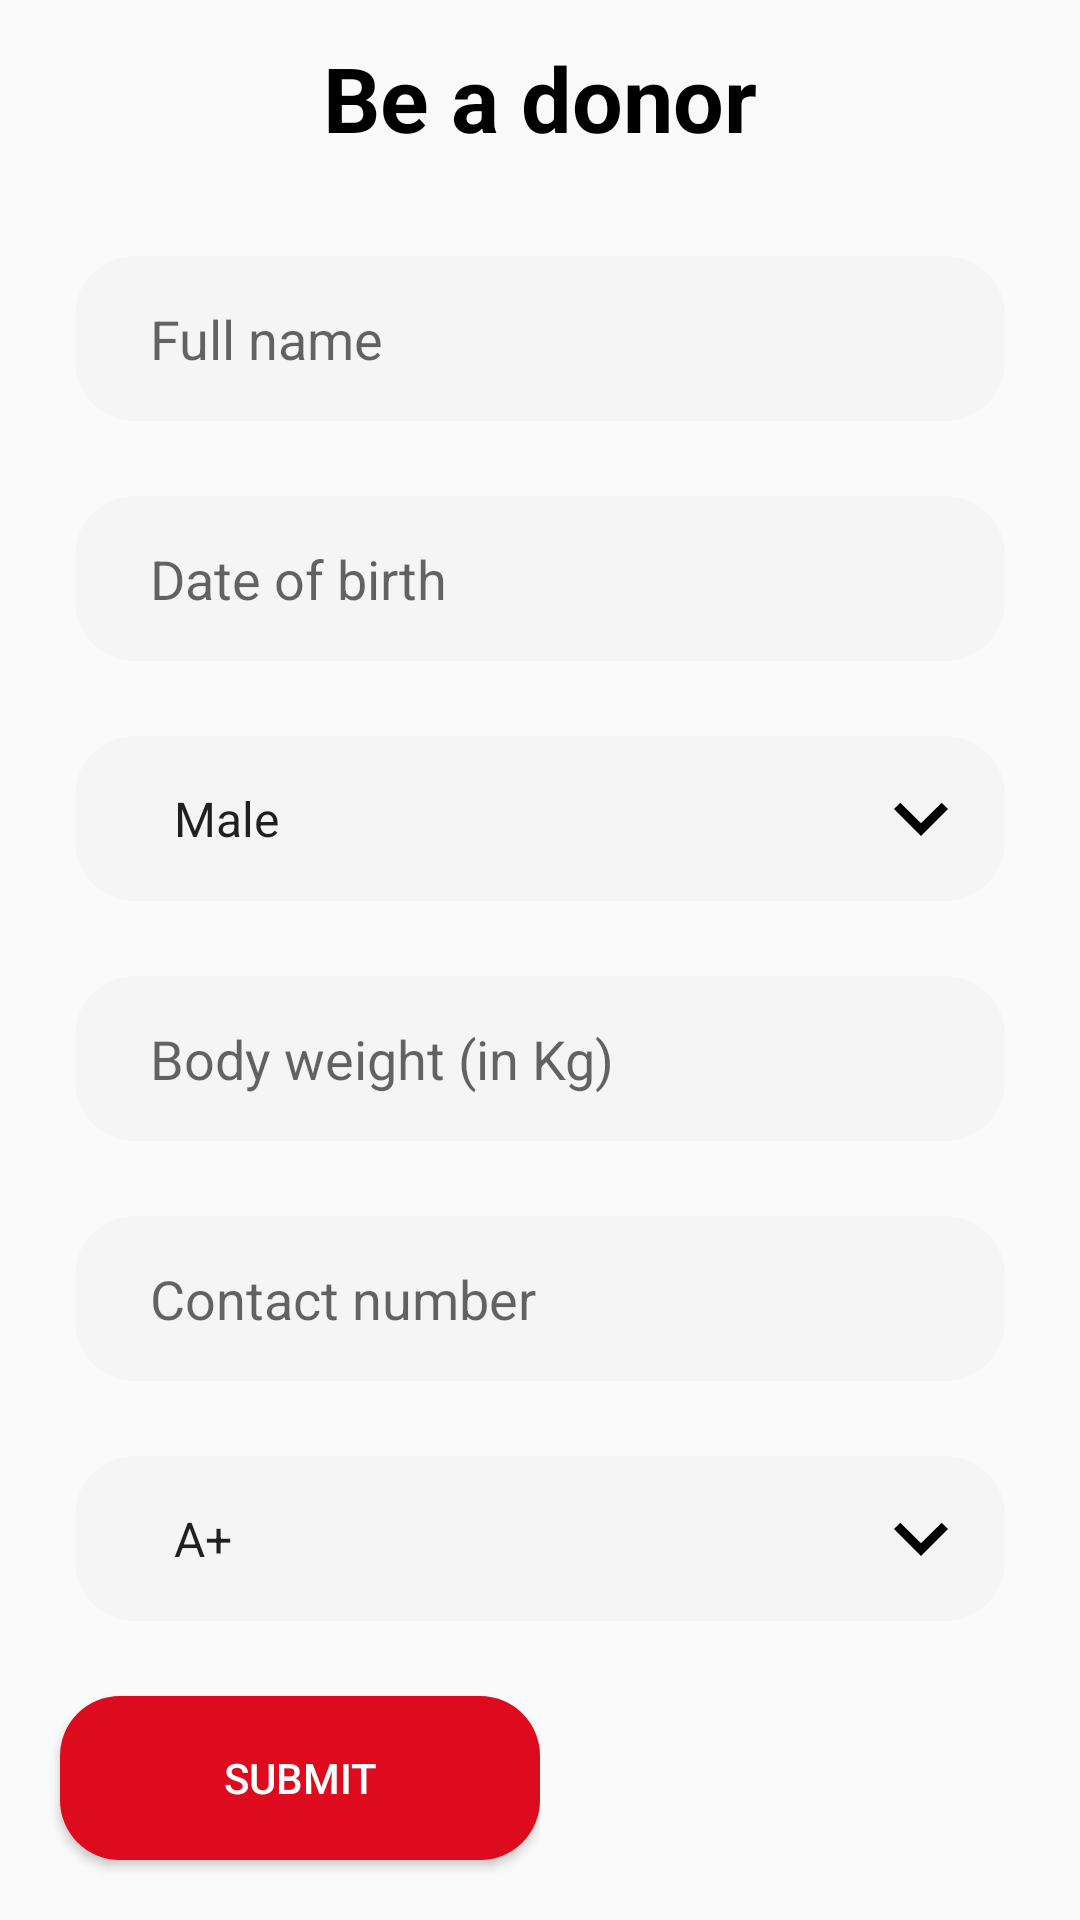

Icons on this 1080*1920 Android screen, each with the point to tap as (x,y):
down arrow: (921,819), (921,1539)
